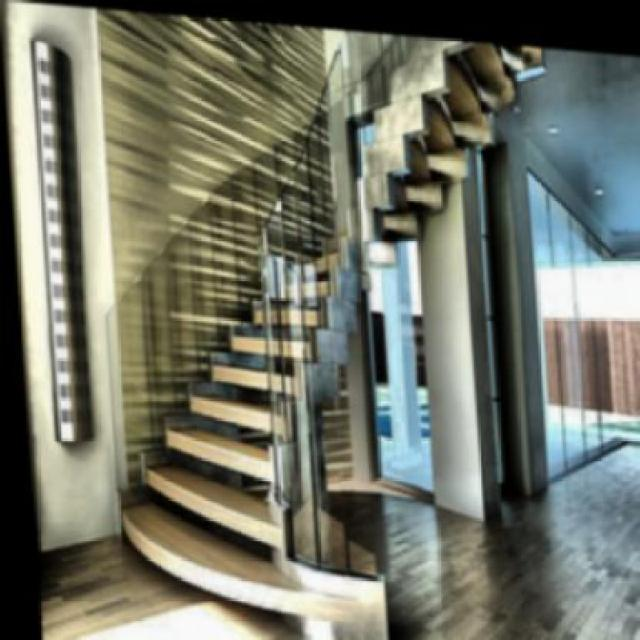stair: (91, 84, 371, 618)
